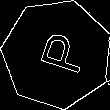P_W: (27, 28, 87, 79)
